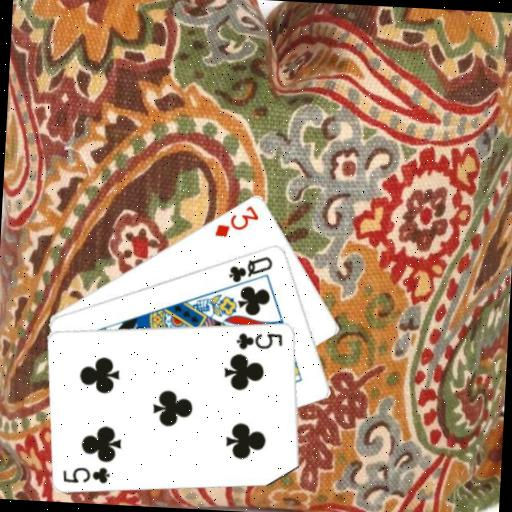3D: (212, 200, 262, 241)
5C: (233, 328, 285, 354), (60, 462, 113, 487)
QC: (225, 251, 275, 285)
